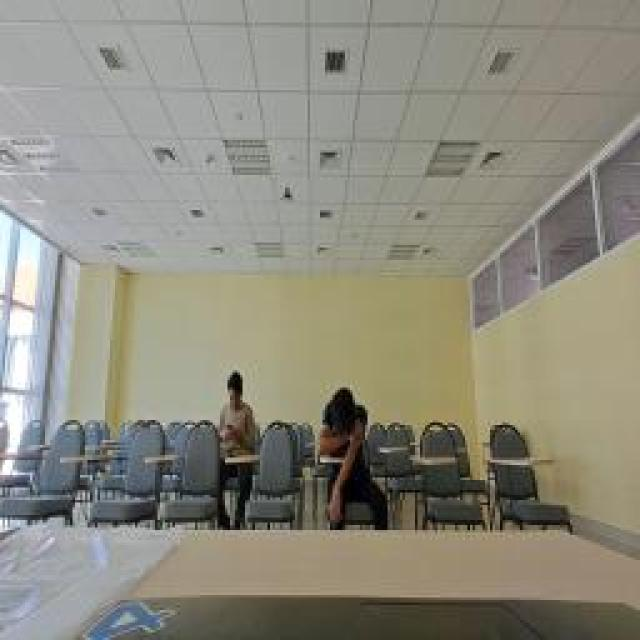phone: (215, 370, 257, 452)
sleep: (312, 375, 372, 463)
